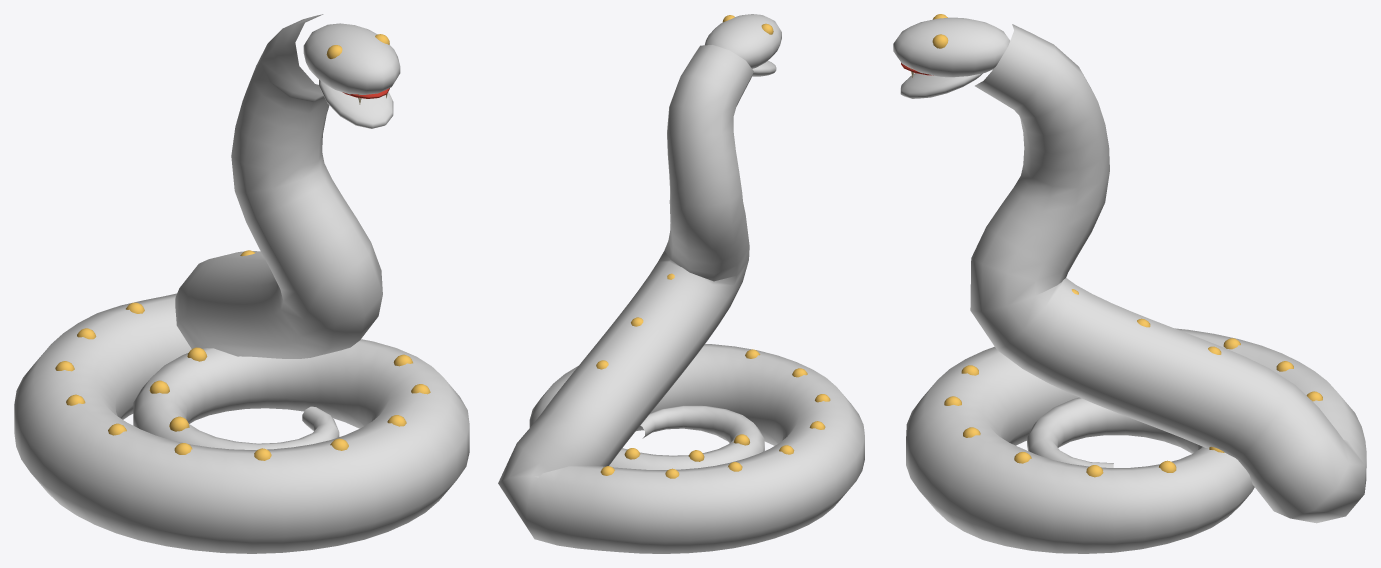
Rendered from guardian-apep.glb.
The picture shows the model from 3 angles, left to right: view 1: azimuth 30°, elevation 25°; view 2: azimuth 150°, elevation 25°; view 3: azimuth 270°, elevation 25°; orthographic projection. The views are drawn at different scales.
Visible parts, largest first — view 1: figurka; view 2: figurka; view 3: figurka.
Part boxes in pixels (left/top/right/bottom): figurka: left=14, top=14, right=469, bottom=553; figurka: left=498, top=14, right=864, bottom=553; figurka: left=893, top=14, right=1366, bottom=553.
Bounding box in the file's own units: 0.5095 × 0.6571 × 0.5888.
